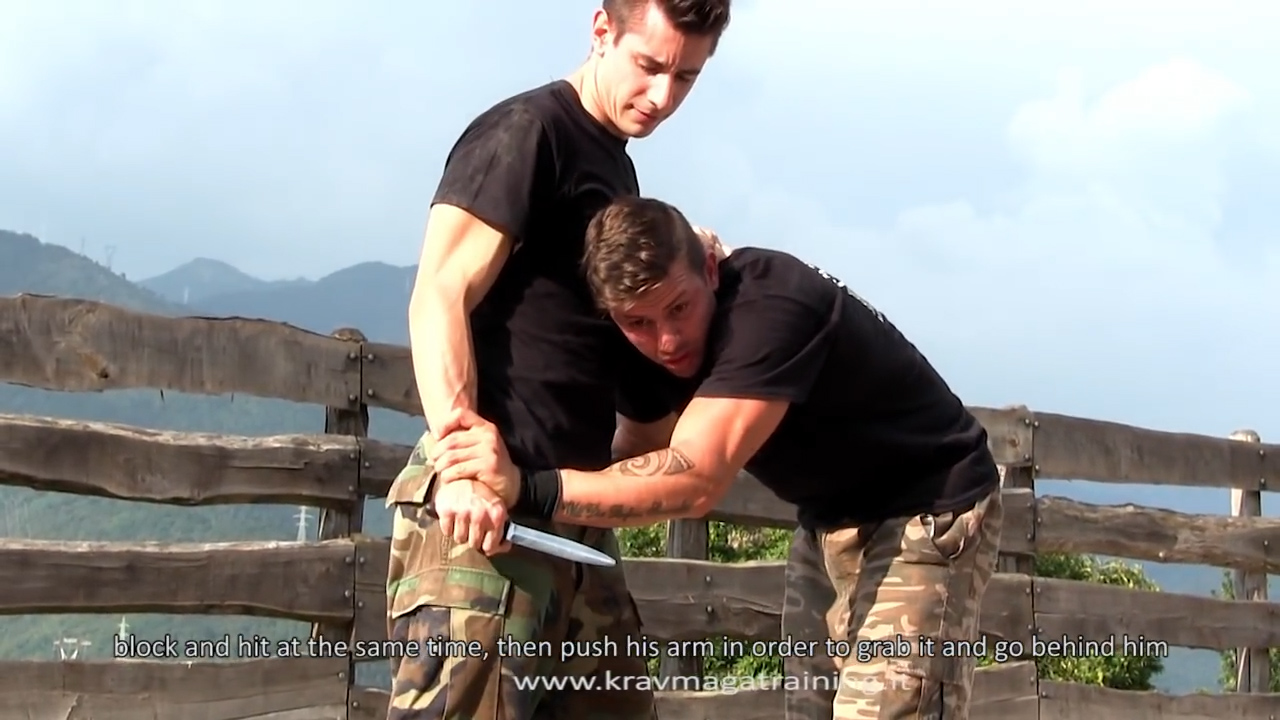knife: (420, 491, 623, 579)
